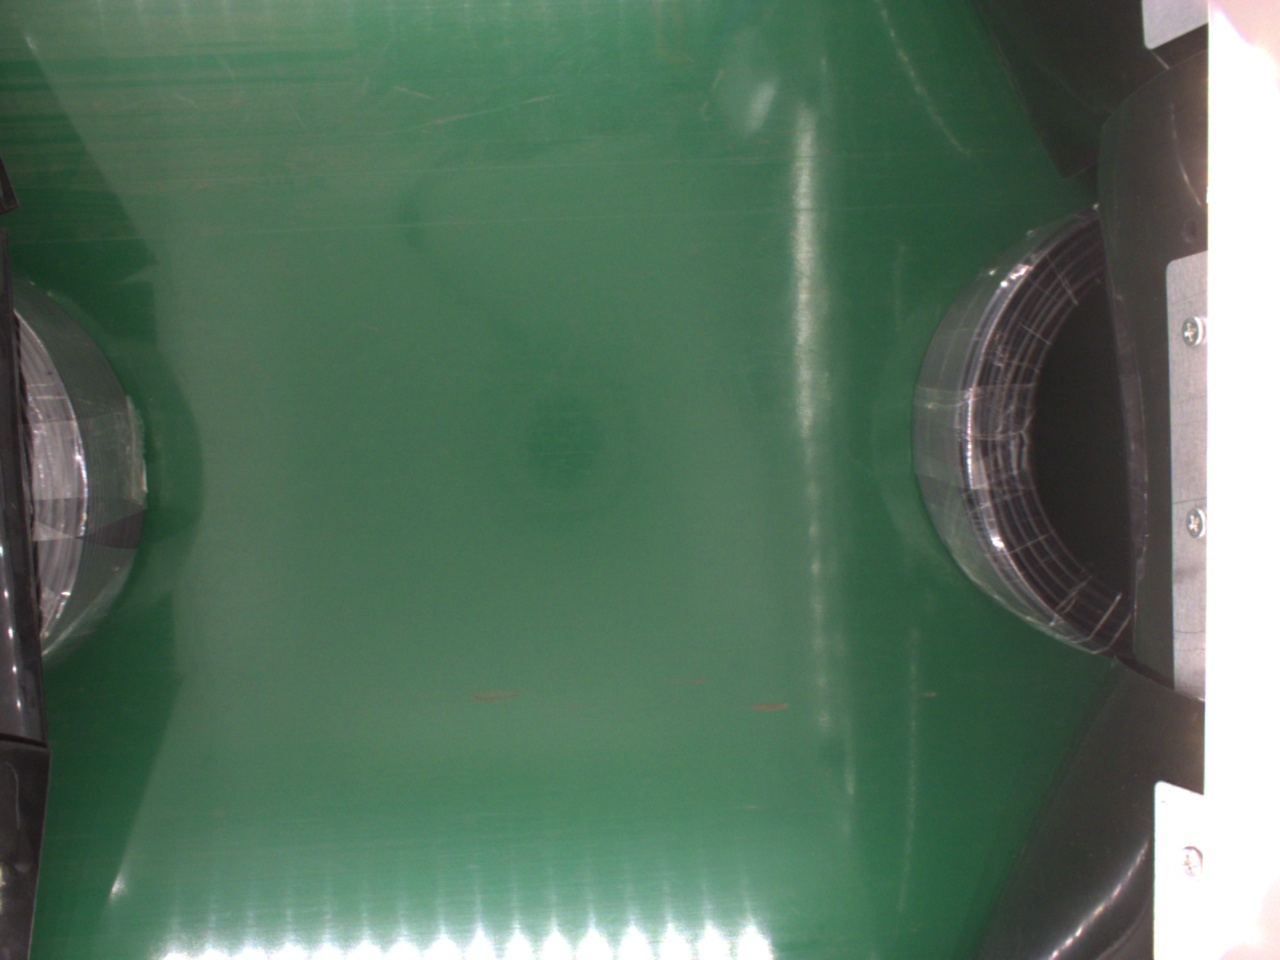black: (910, 208, 1140, 664), (8, 268, 149, 659)
